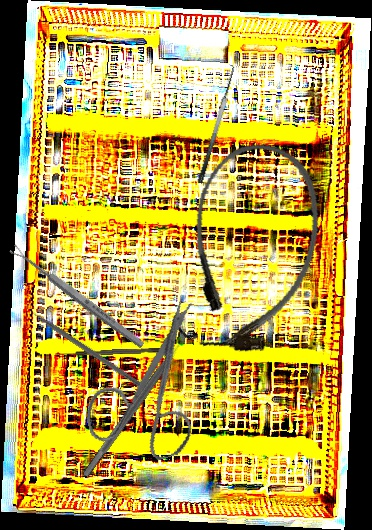Cannula: (170, 132, 334, 364)
Chopper: (23, 299, 150, 390)
Fixation Ring: (73, 319, 201, 484)
Hook Surgical: (58, 347, 167, 357)
Iris Scissors: (60, 295, 234, 478)
Spatula Surgical: (187, 62, 241, 185)
Surgical Spoon: (9, 243, 146, 350)
